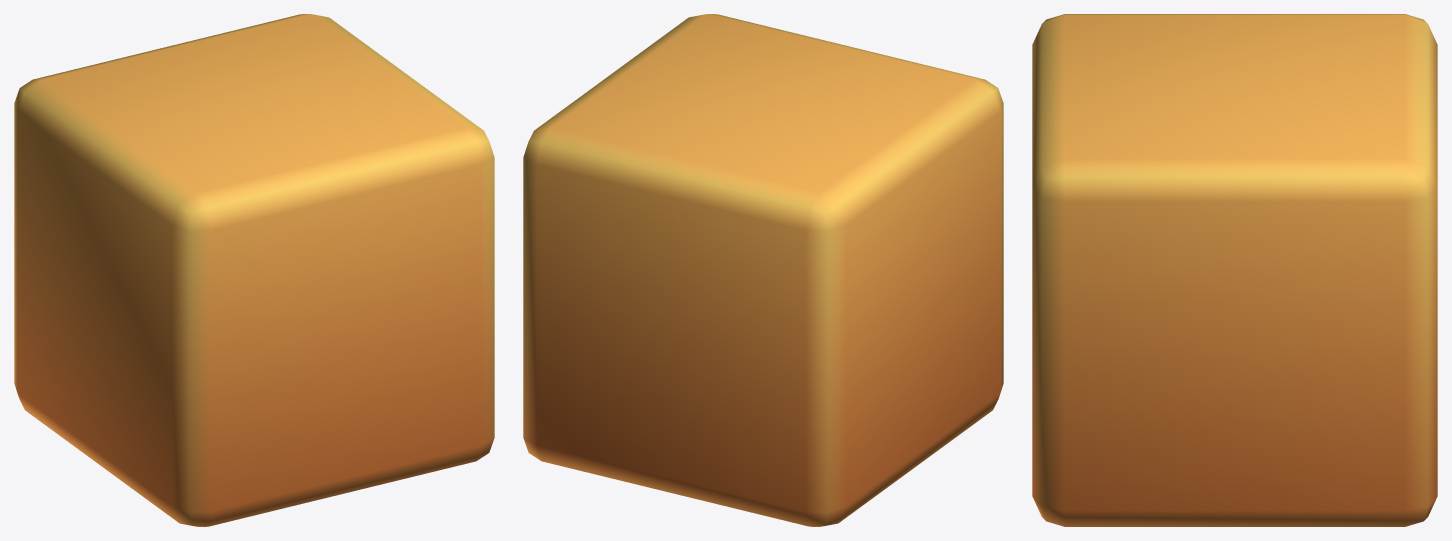
Rendered from cube_yellow.glb.
3 renders of one model, left to right at view 1: azimuth 30°, elevation 25°; view 2: azimuth 150°, elevation 25°; view 3: azimuth 270°, elevation 25°, orthographic. The views are drawn at different scales.
Parts seen in each view (by area): view 1: cube_yellow; view 2: cube_yellow; view 3: cube_yellow.
Boxes of the visible parts, bbox=[...] form: cube_yellow: bbox=[14, 14, 494, 526]; cube_yellow: bbox=[523, 14, 1003, 526]; cube_yellow: bbox=[1032, 14, 1437, 526].
Size of the model in its own units: 0.5 by 0.5 by 0.5.
Materials: 1 (1 with a texture image).
